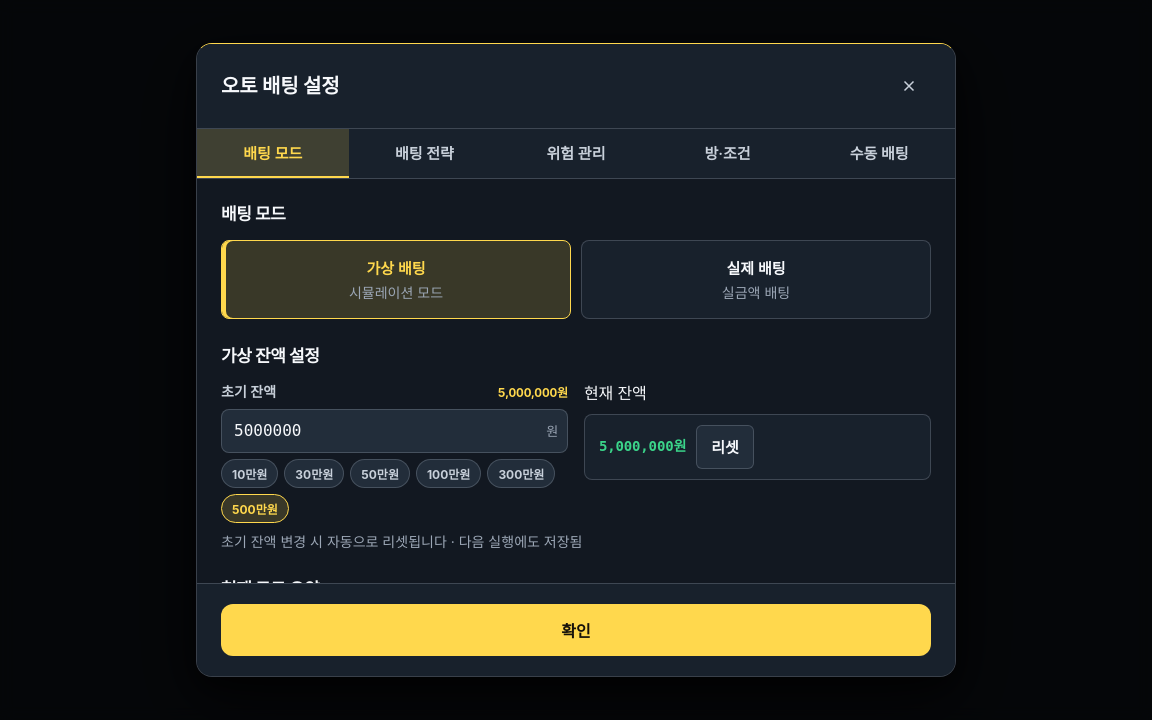
Test: AutoModeSettingsDialog — 계정 동시배팅 상한 › 상한 10이면 프리셋에서 "제한 없음"이 사라지고 10이 남는다
Click the button "배팅 전략": point(424, 154) [349,129,500,178]
(page scrolled)
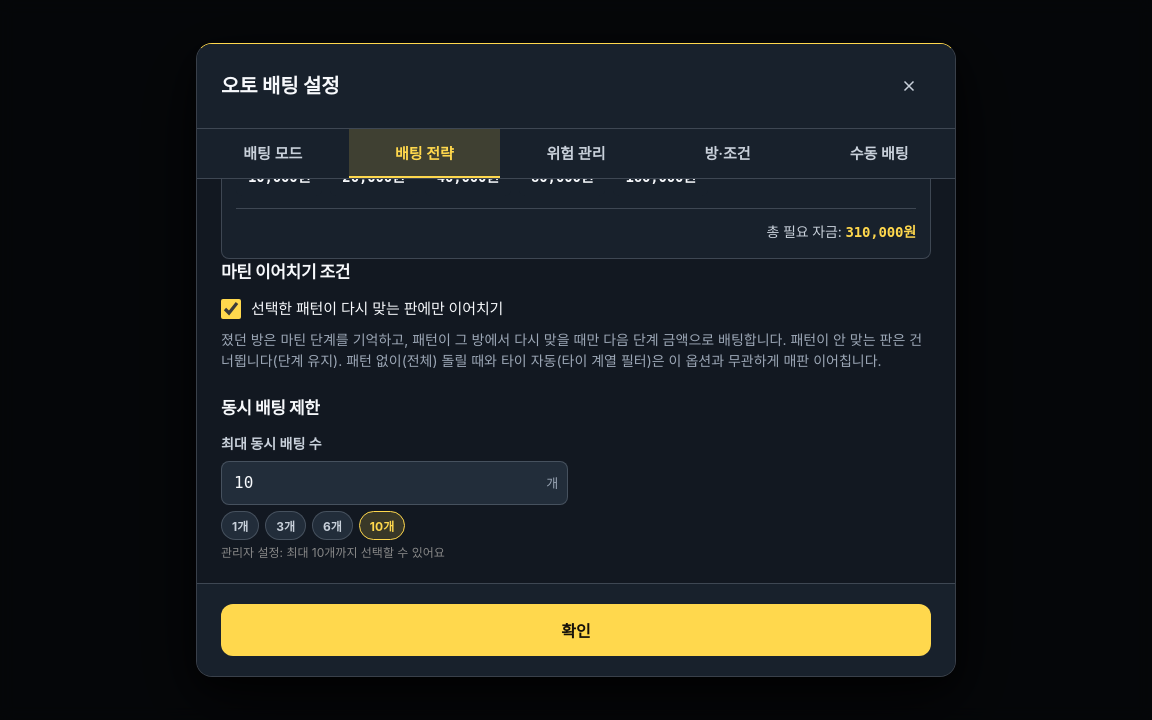
Expected: the button "10개" is shown, [359,511,405,540]
Expected: the buttons read "1개", "3개", "6개", "10개", in this order, [221,511,259,540]; [265,511,306,540]; [312,511,353,540]; [359,511,405,540]
